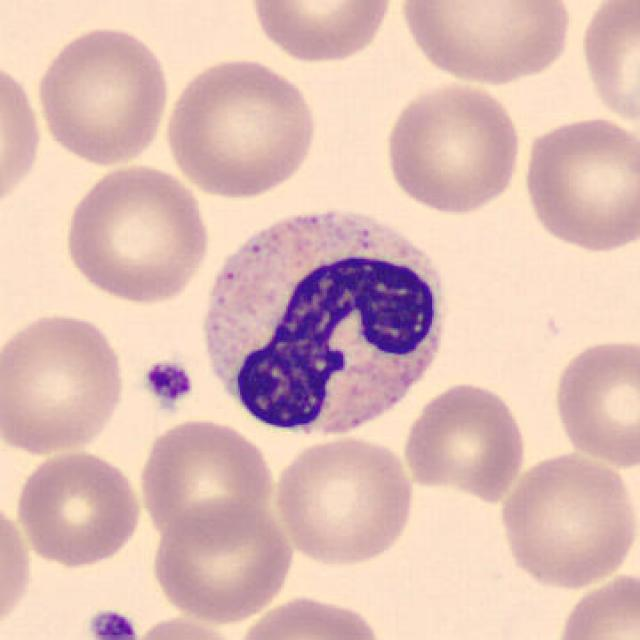Neutrophil: (194, 196, 455, 451)
Platelets: (139, 356, 197, 411), (83, 606, 140, 640)
RBC: (160, 53, 322, 201), (59, 158, 215, 306), (32, 19, 172, 168), (494, 448, 638, 590), (268, 432, 418, 568), (380, 79, 524, 217), (147, 496, 297, 624), (0, 308, 128, 456), (135, 414, 277, 542), (519, 111, 638, 256), (12, 448, 144, 569), (400, 379, 530, 501), (394, 0, 577, 86), (549, 333, 640, 471), (246, 0, 396, 67), (576, 0, 640, 130), (232, 590, 387, 640), (0, 52, 44, 222), (551, 569, 638, 640), (0, 492, 36, 638), (126, 613, 245, 640)
